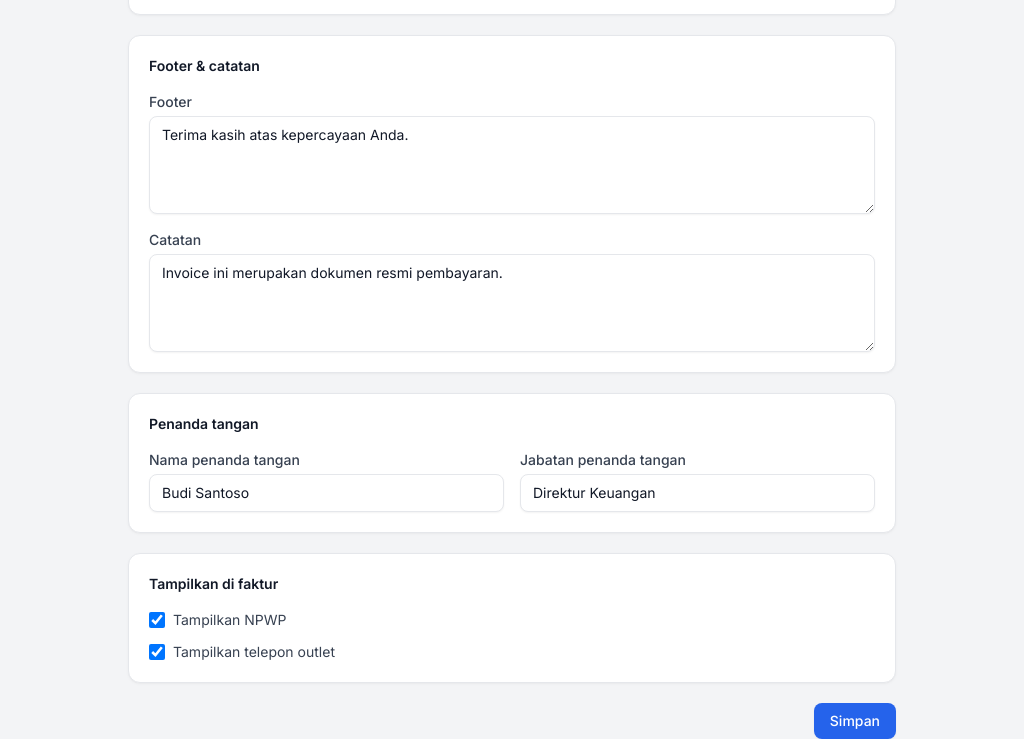
admin invoice-template page › shows an error message when saving fails
This screenshot has width=1024, height=739.
(page scrolled)
Click the button "Simpan" at x=855, y=721, box [814,703,896,738]
(page scrolled)
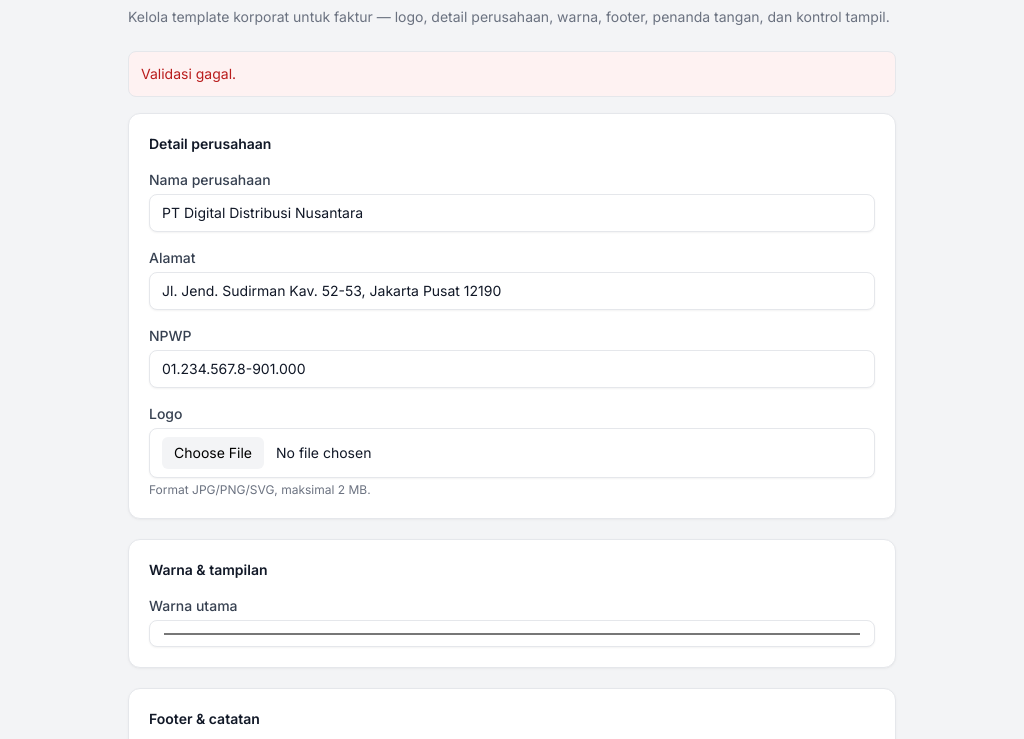
Expected: the message shows "Validasi gagal", [141,65,236,82]
